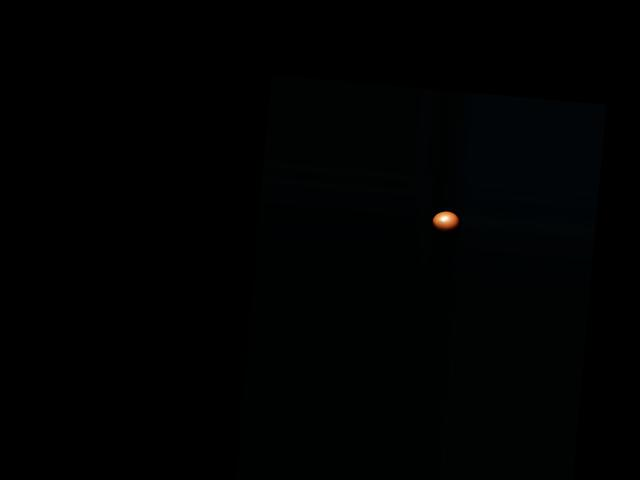egg: (431, 210, 460, 234)
